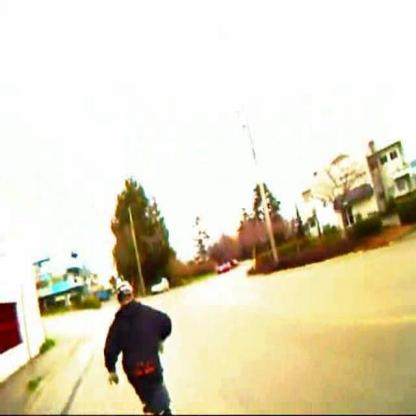other: (176, 259, 274, 324), (39, 304, 107, 334)
